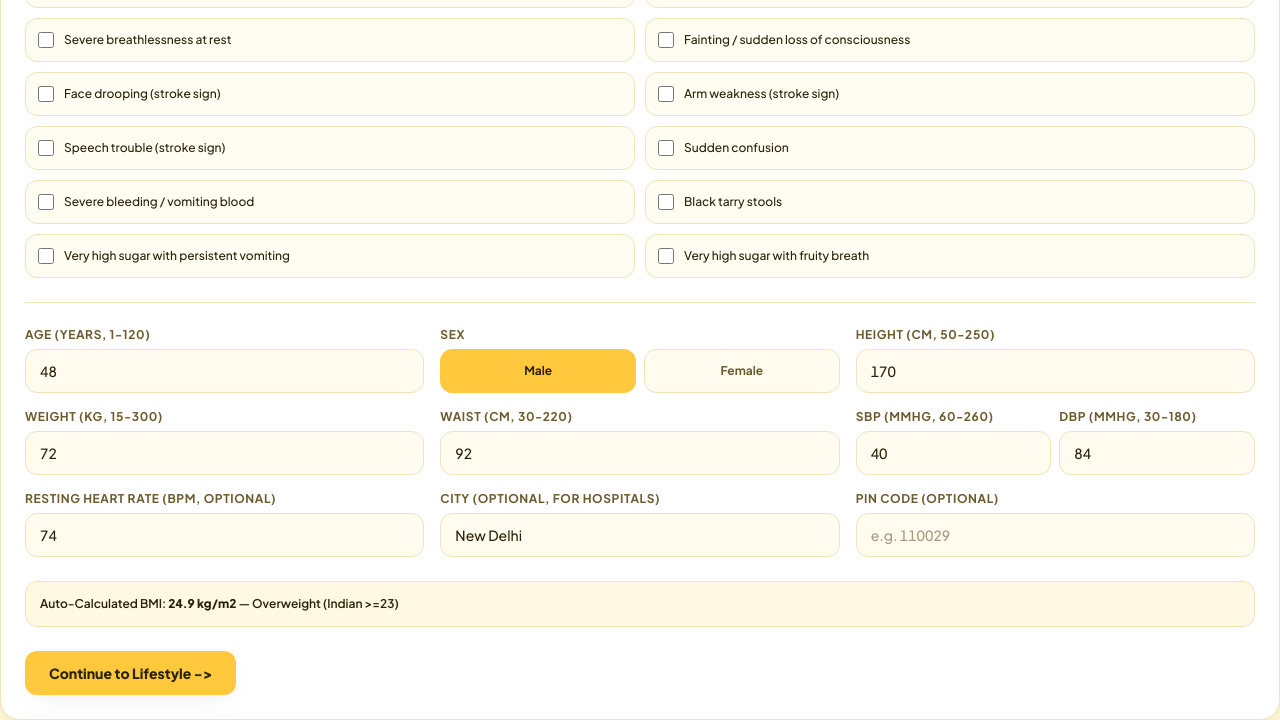
HealthBuddy Frontend Tests › validates wizard SBP range and preserves draft when going Back
Later steps or results of the test are not shown.
(page scrolled)
Click the button "Continue to Lifestyle ->" at (131, 673), box [25,651,236,695]
(page scrolled)
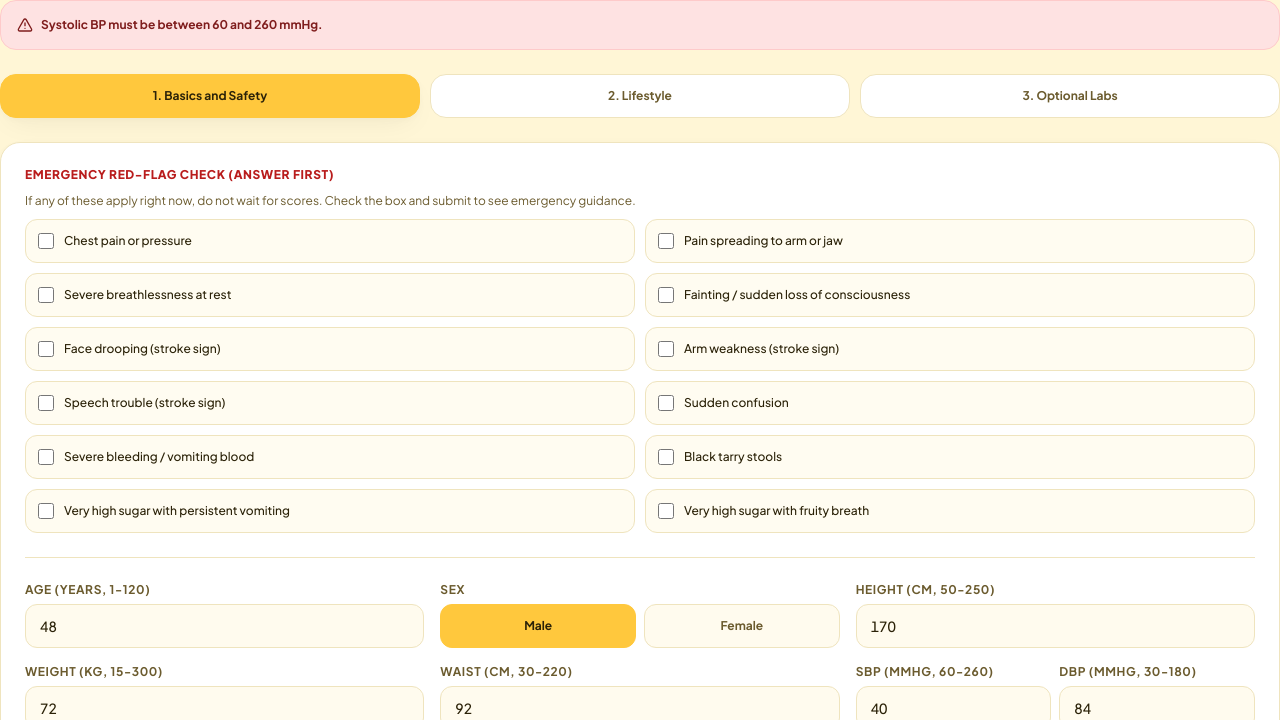
Now the message shows "Systolic BP must be between 60 and 260", box [41,17,323,32]
